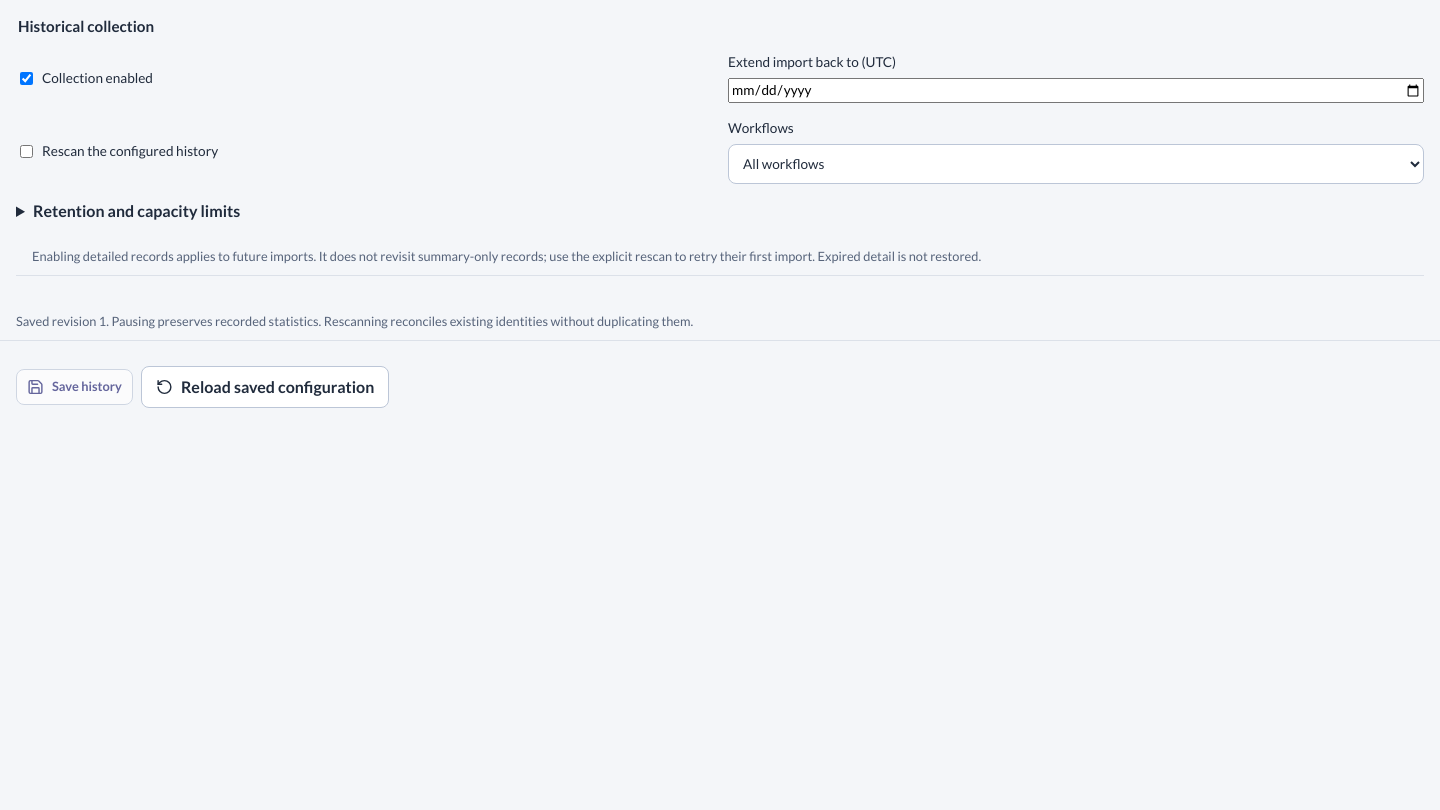
Scenario: retention choice inherit preserves a distinct contract
Click the heading "Retention and capacity limits". click: x=137, y=211
box: [33,201,240,220]
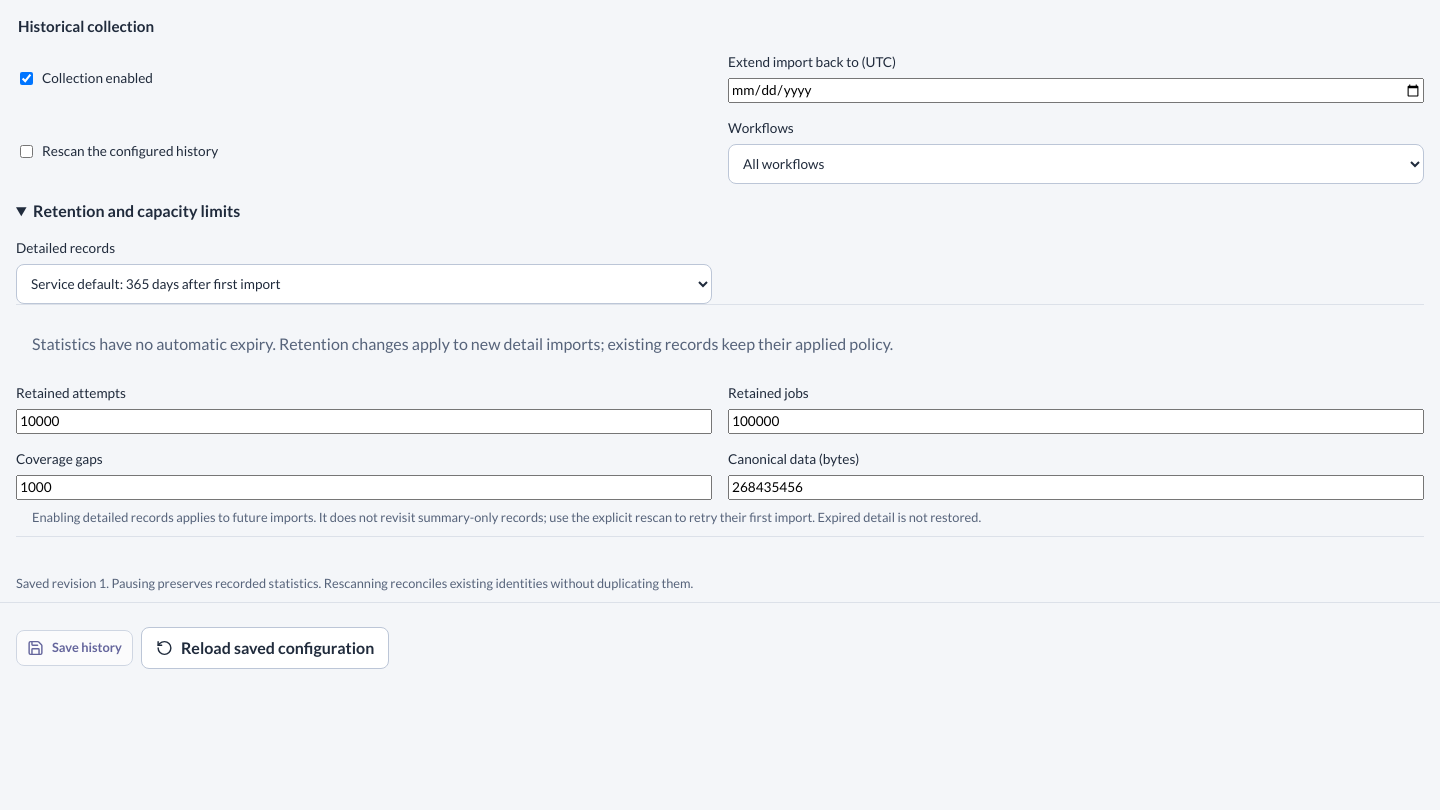
Select "Service default: 365 days after first import" in the dropdown labelled "Detailed records". click: x=364, y=284
box: [16,264,712,304]
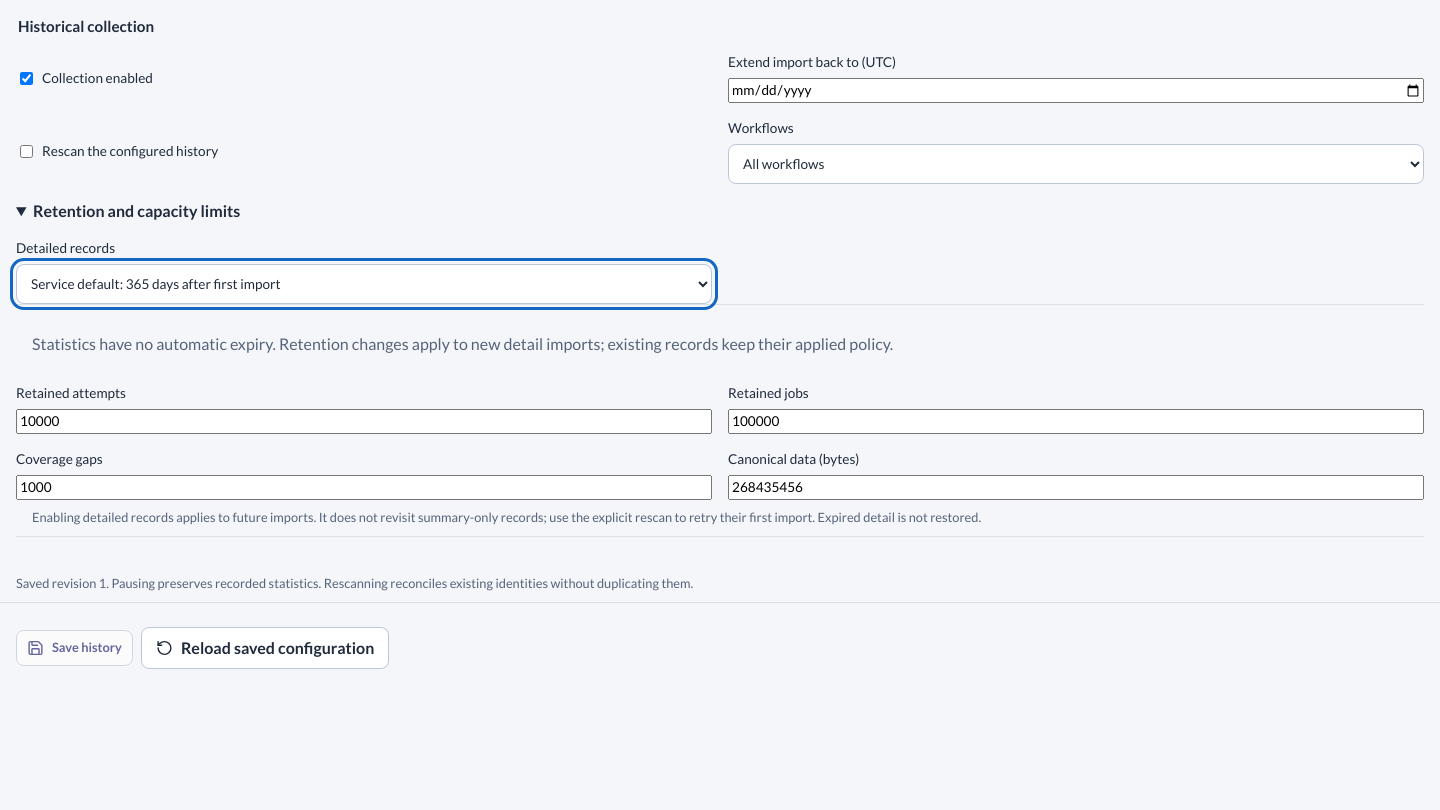
Click the checkbox labelled "Collection enabled". click: x=26, y=78
box: [20,72,33,85]
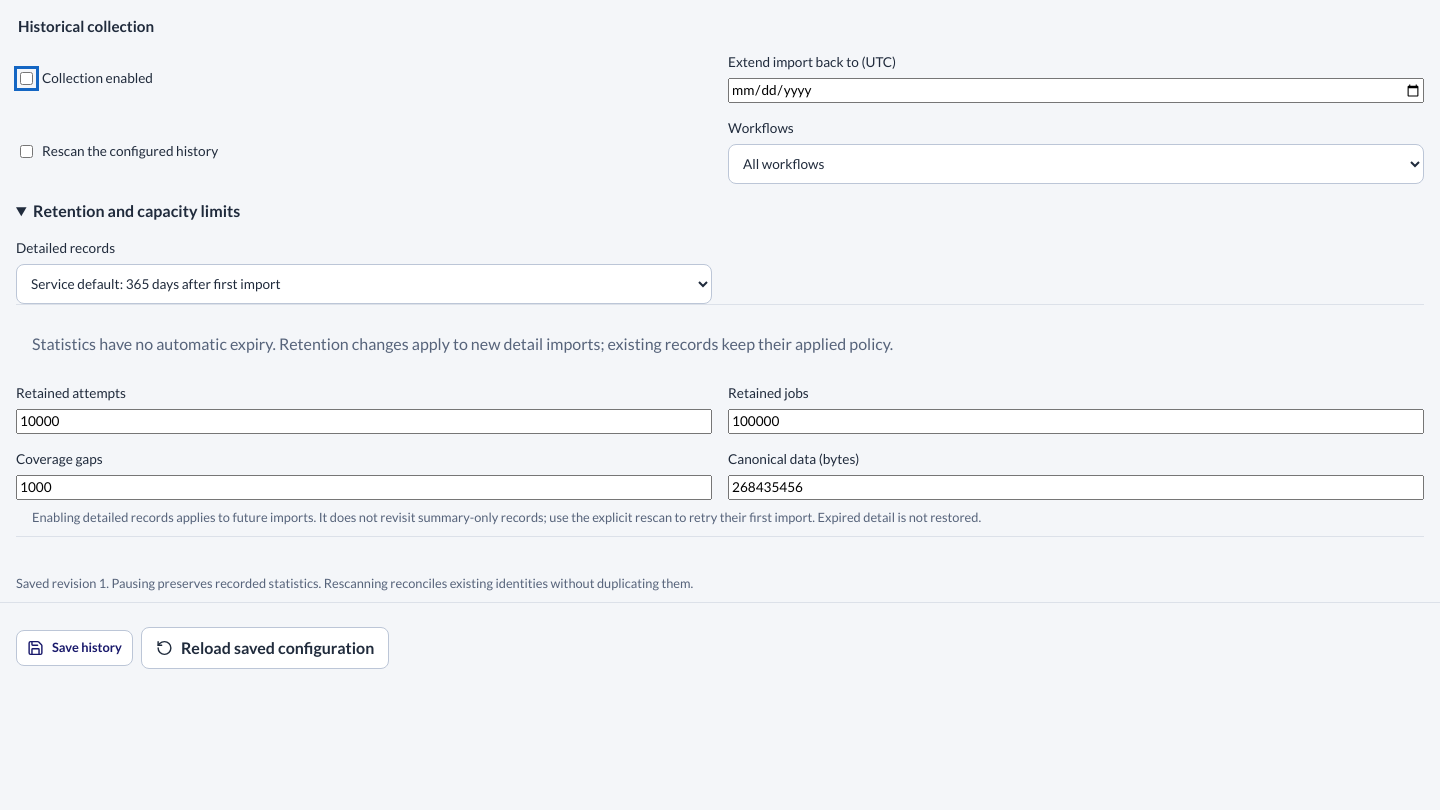
Click the button "Save history". click: x=74, y=648
box: [16,630,133,666]
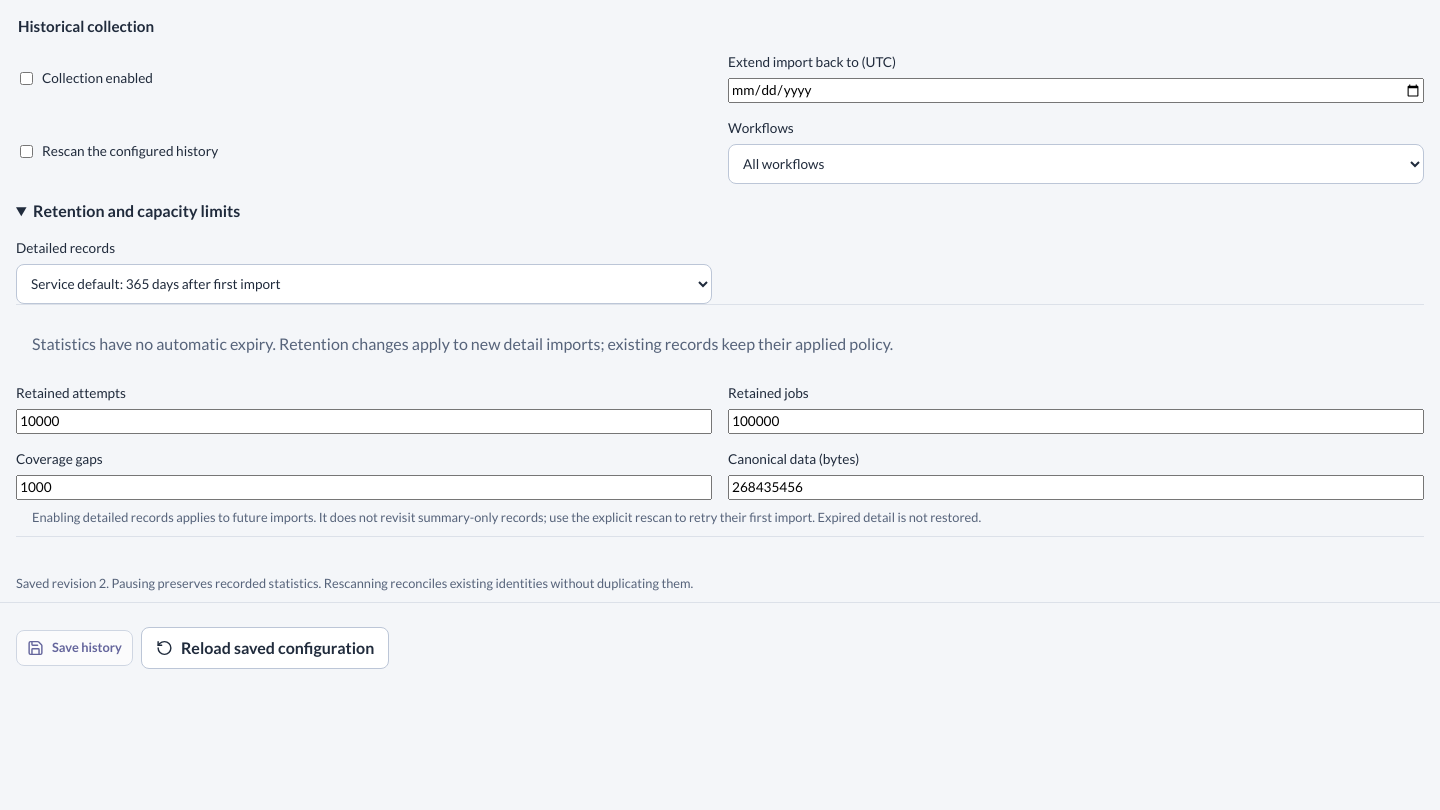
Expected: the text "Saved revision 2." is shown, [0,566,1439,602]
